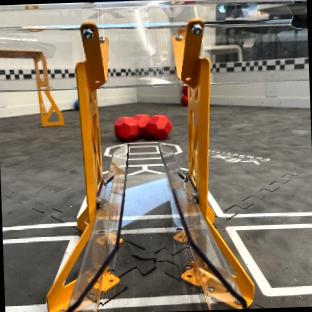Goal: (0, 29, 63, 126)
V5_RED: (114, 114, 170, 141)
